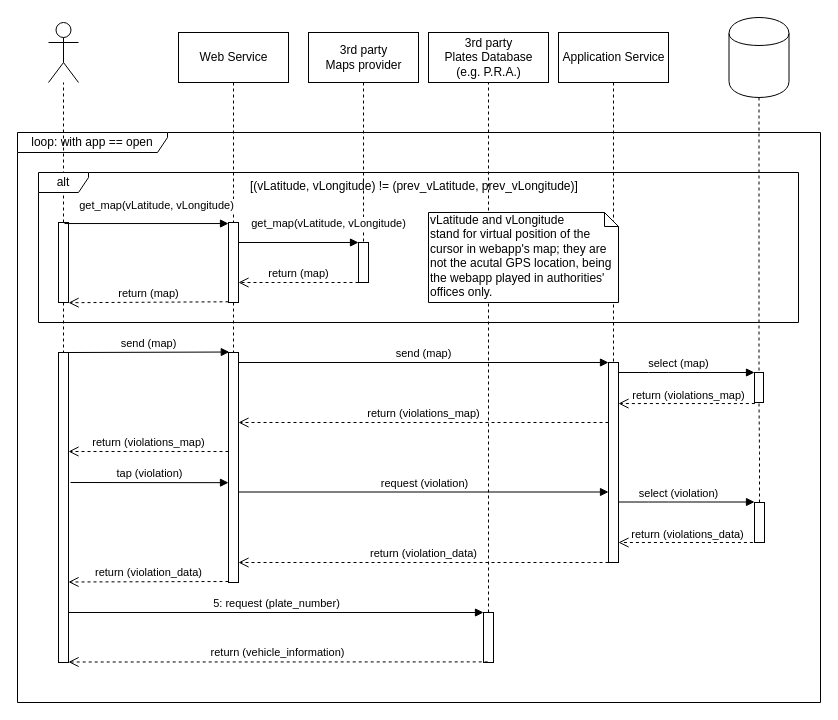
Some shapes in this 838 by 720 pixel diagram are drawn without their labels. The shapes that lost their labels are listed below. From the top down, each one's centre as x and y in pixels, then its label:
At point 63,52: "Public Service (e.g. Police)".
At point 758,57: "Database Service".
